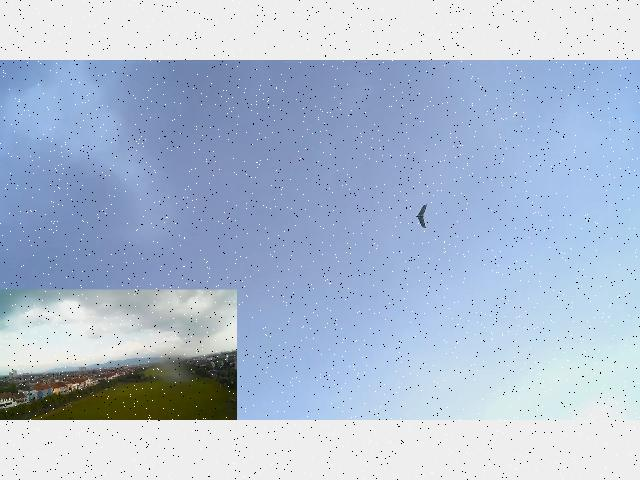Anti-Drone: (416, 204, 428, 228)
